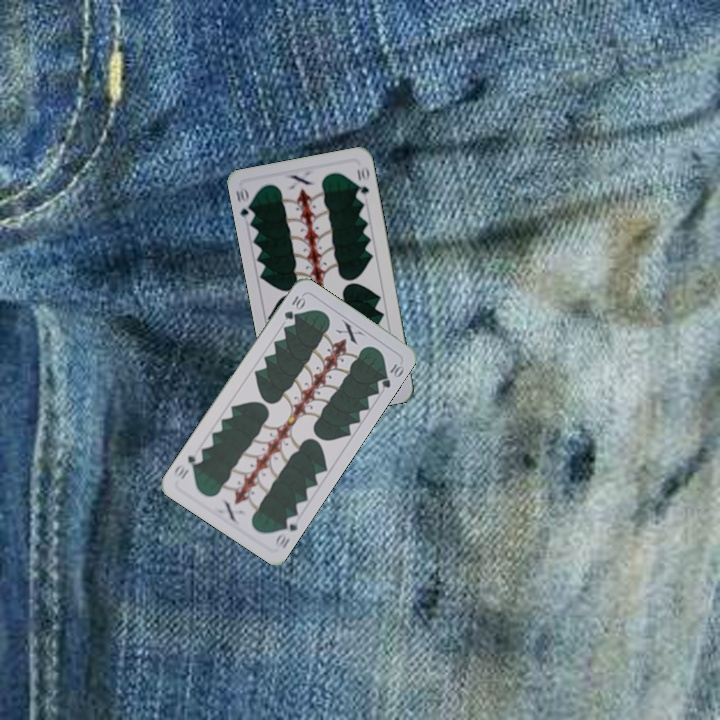G10: (271, 512, 302, 551), (231, 184, 257, 223), (280, 291, 307, 323)
